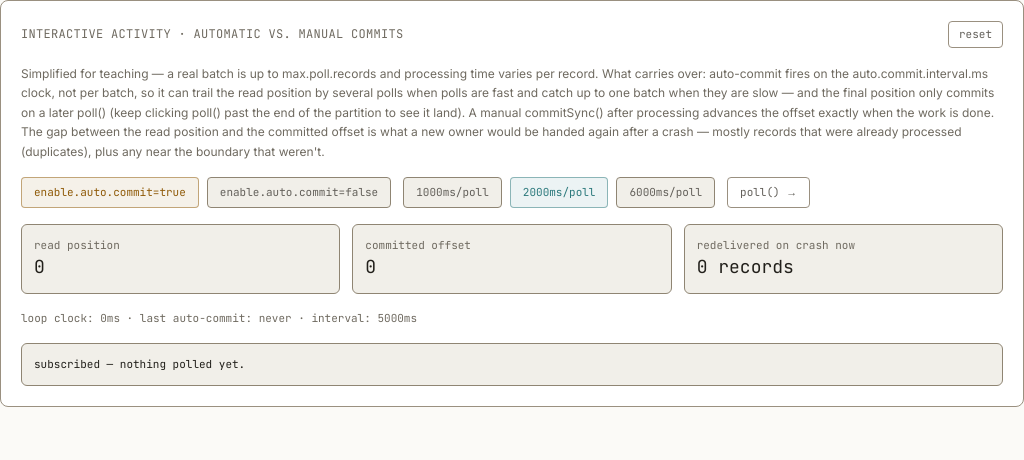
Test case: CommitStrategyDemo › slow polls let auto-commit keep up to within one batch
Click the button "6000ms/poll" at (666, 192), box 616,177 -> 715,208
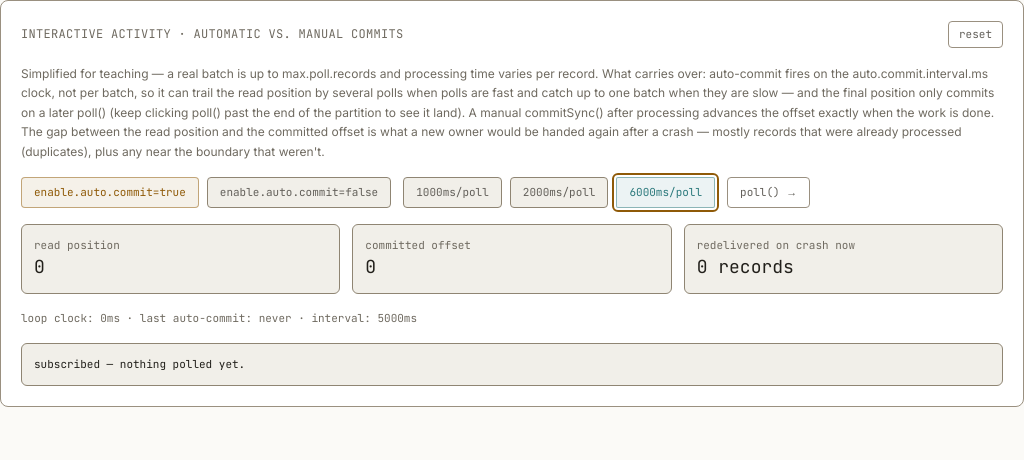
Click the button "poll() →" at (769, 192), box 727,177 -> 810,208
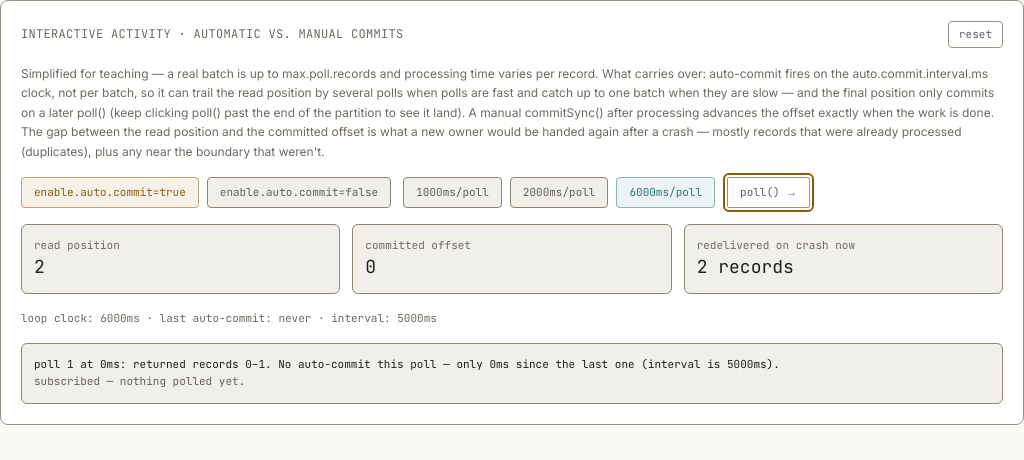
Click the button "poll() →" at (769, 192), box 727,177 -> 810,208
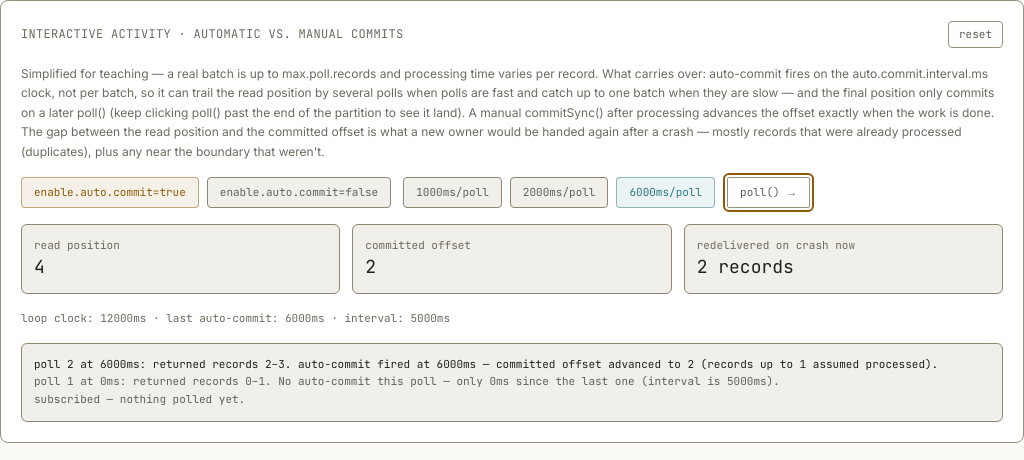
expect the text with test id "redelivered-gap" reads "2 records": met, box 697,255 -> 794,278
expect the text with test id "committed-position" reads "2": met, box 365,255 -> 376,278
expect the text with test id "read-position" reads "4": met, box 34,255 -> 45,278
